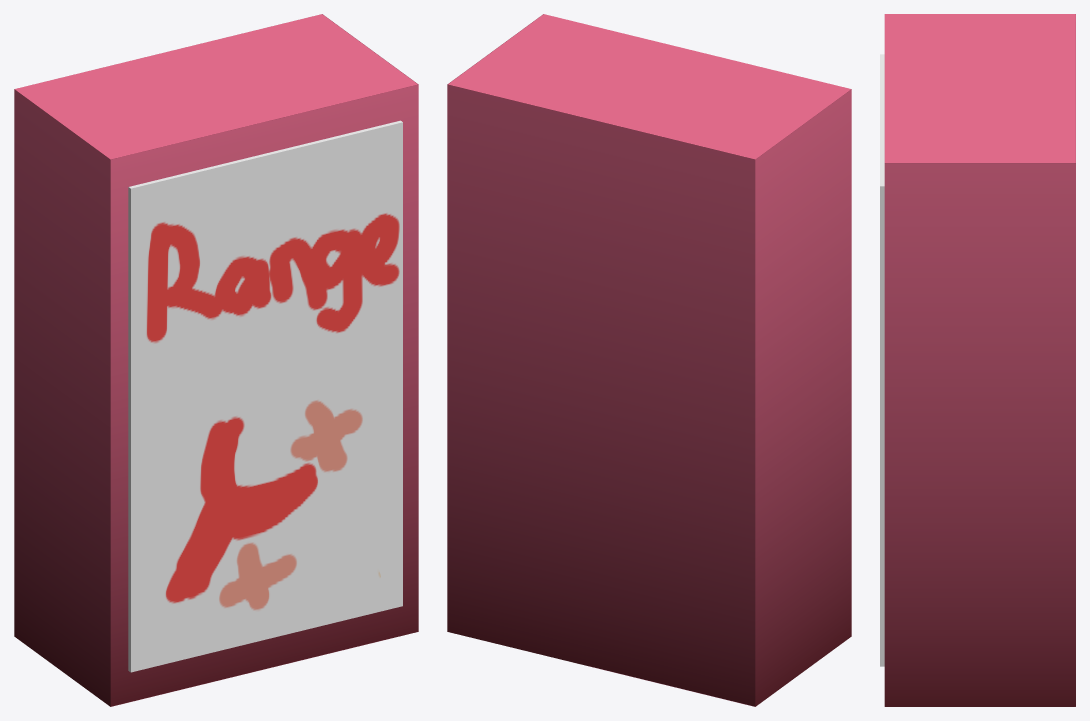
The model's file is Range Upgrade.glb.
3 views of the same model, side by side, from view 1: azimuth 30°, elevation 25°; view 2: azimuth 150°, elevation 25°; view 3: azimuth 270°, elevation 25° (orthographic).
Parts seen in each view (by area): view 1: Cube.001, Cube; view 2: Cube; view 3: Cube, Cube.001.
Part boxes in pixels (bbox=[...]): Cube.001: bbox=[128, 120, 402, 672]; Cube: bbox=[14, 14, 418, 706]; Cube: bbox=[447, 14, 851, 706]; Cube: bbox=[884, 14, 1075, 706]; Cube.001: bbox=[880, 54, 884, 666].
Size of the model in its own units: 1.07 by 1.81 by 0.5908.
Materials: 2 (2 with a texture image).
